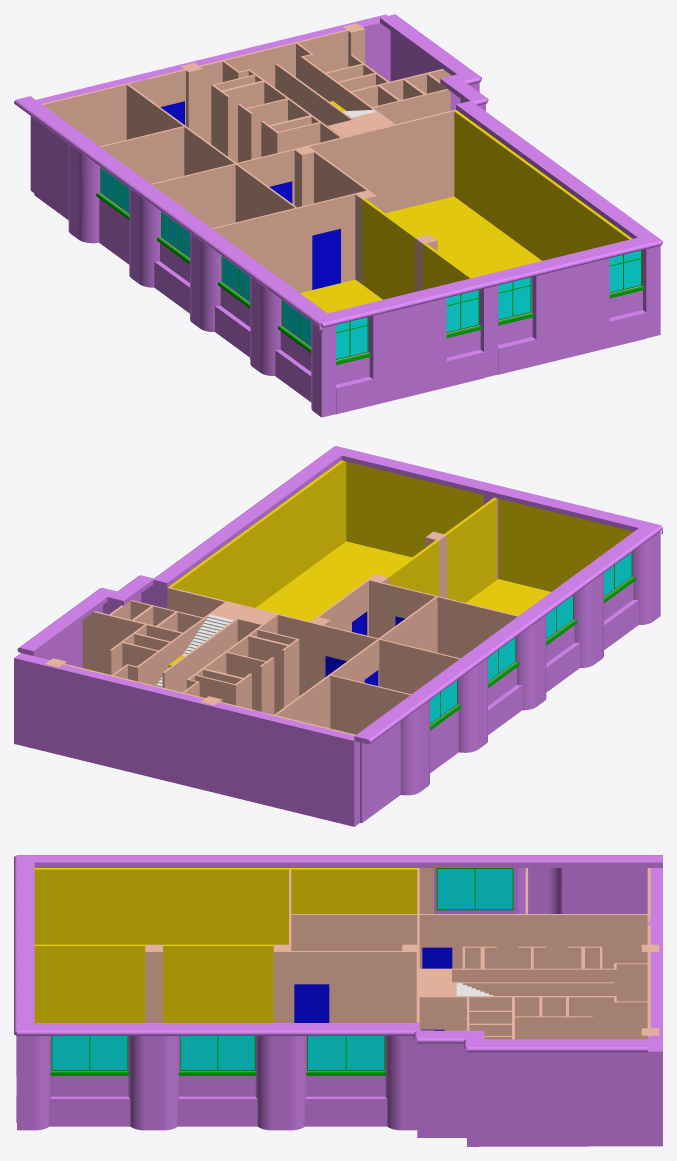
3 views of the same model, one above another, from view 1: azimuth 30°, elevation 25°; view 2: azimuth 150°, elevation 25°; view 3: azimuth 270°, elevation 25° (orthographic). The views are drawn at different scales.
Visible parts, largest first — view 1: 物件_210; view 2: 物件_210; view 3: 物件_210.
Boxes of the visible parts, x1=… form: 物件_210: x1=14, y1=14, x2=662, y2=417; 物件_210: x1=14, y1=446, x2=662, y2=826; 物件_210: x1=14, y1=855, x2=662, y2=1146.
Bounding box in the file's own units: 119 × 28.55 × 168.
